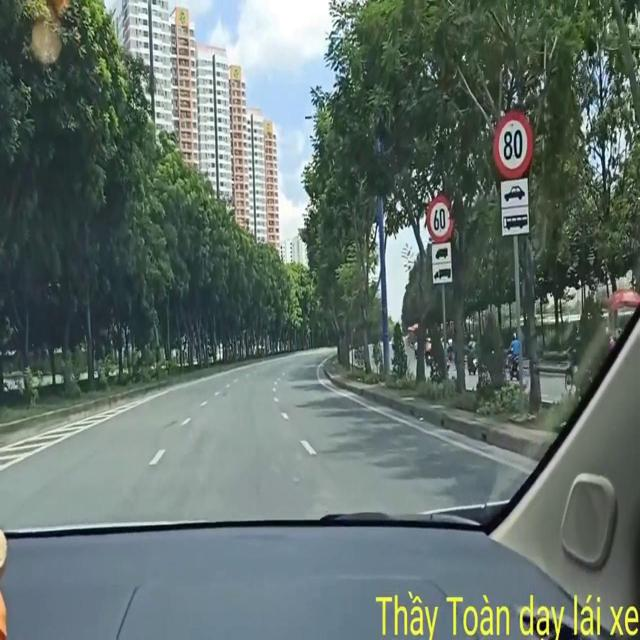Biển phụ: (494, 171, 531, 238), (427, 238, 451, 285)
Giới hạn tốc độ: 60Km/h: (420, 189, 457, 242)
Giới hạn tốc độ: 80Km/h: (491, 101, 536, 176)
